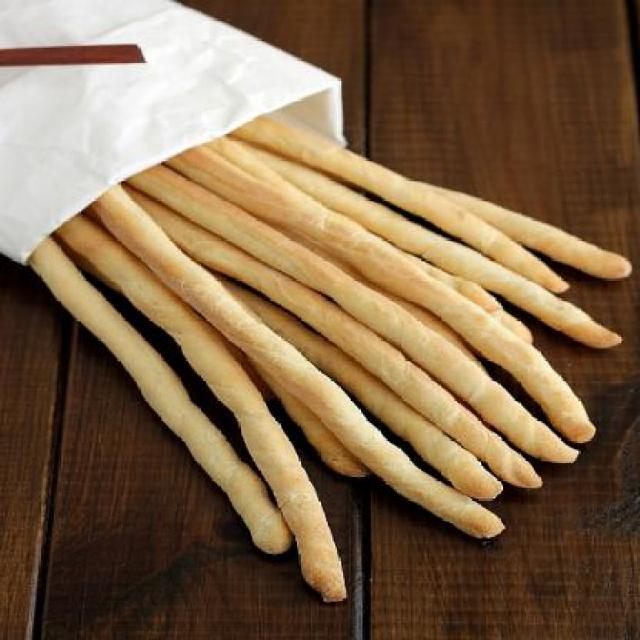Grissini: (33, 110, 630, 588)
